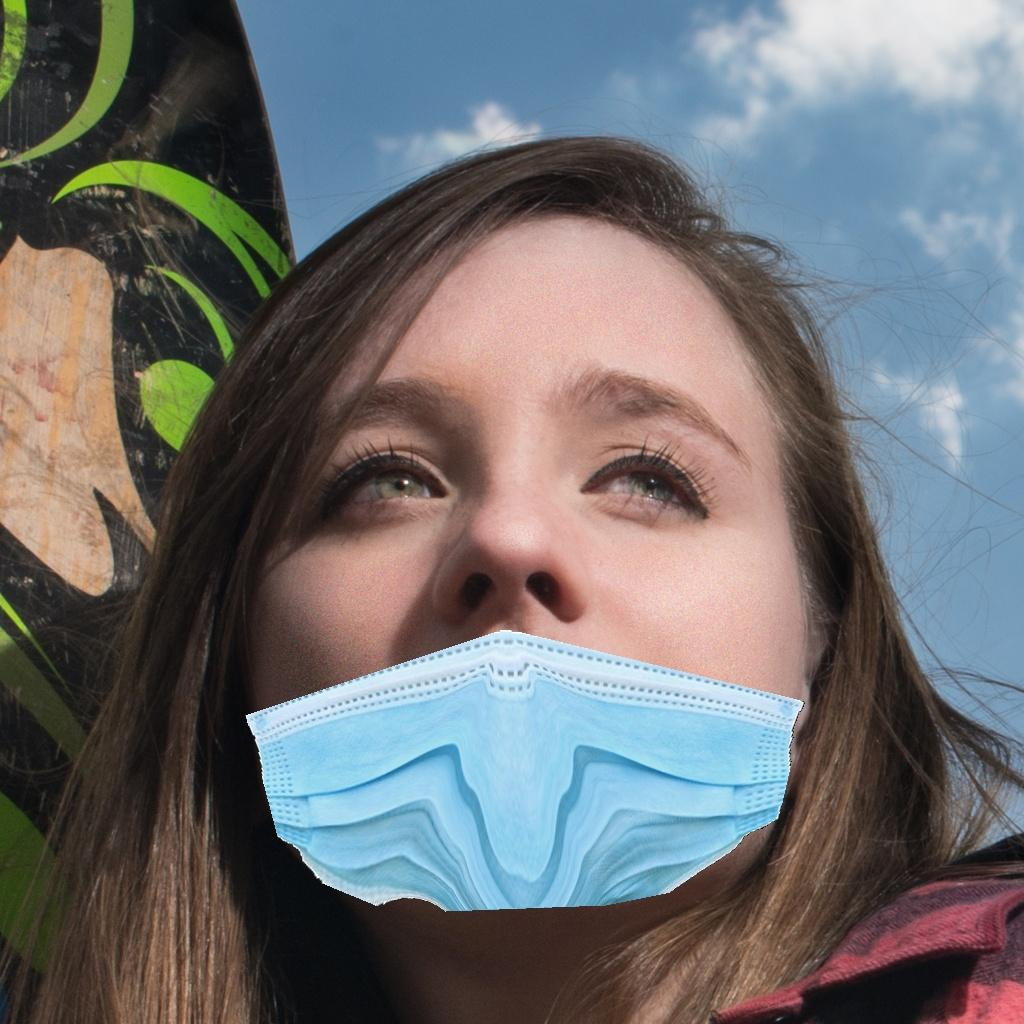Máscara Incorreta: (252, 338, 791, 899)
